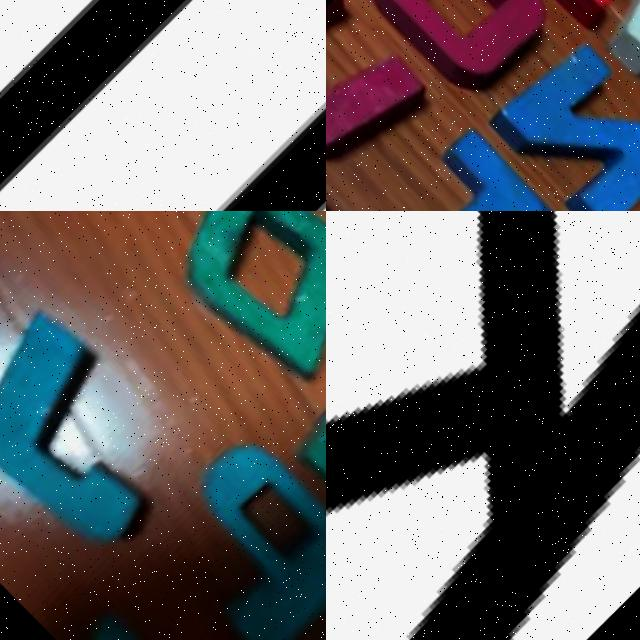D: (135, 211, 326, 404)
I: (469, 0, 640, 40)
J: (0, 290, 195, 568)
K: (326, 211, 640, 640), (278, 336, 326, 587)
N: (479, 28, 640, 211)
O: (354, 0, 558, 107)
P: (146, 425, 326, 640)
T: (367, 122, 588, 211)
U: (0, 0, 326, 211)
